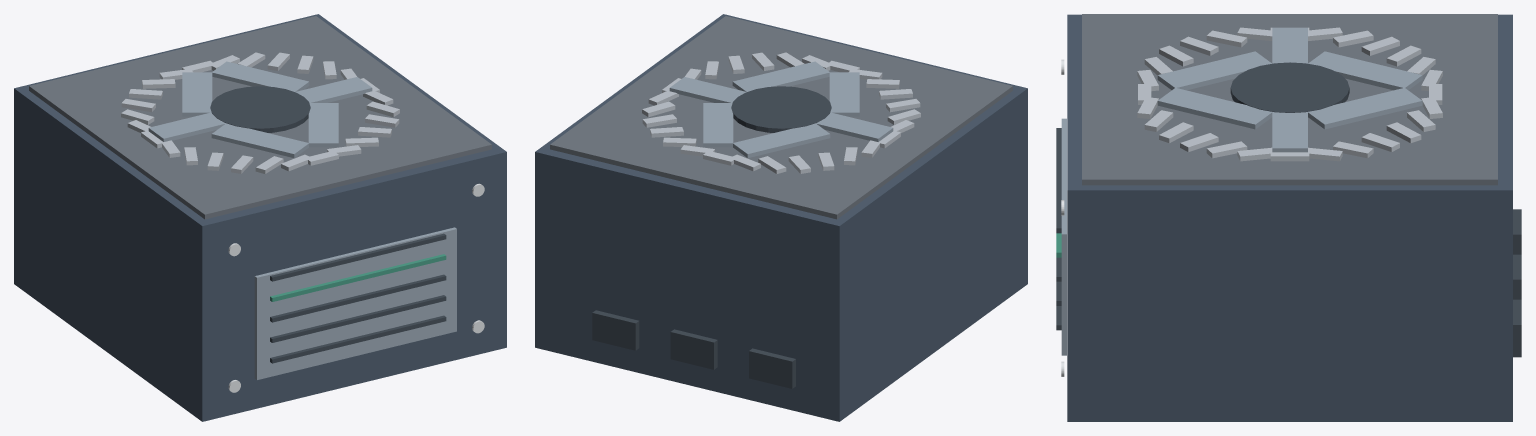
The model's file is psu.glb.
3 views of the same model, side by side, from view 1: azimuth 30°, elevation 25°; view 2: azimuth 150°, elevation 25°; view 3: azimuth 270°, elevation 25° (orthographic). The views are drawn at different scales.
Visible parts, largest first — view 1: steel_chassis_1, fan_grille_surface_2, psu_plate_38, fan_hub_31, vent_blade_34, vent_blade_37, vent_blade_33, vent_blade_36, vent_blade_35, psu_label_39, psu_label_41, psu_label_43 (+3 smaller); view 2: steel_chassis_1, fan_grille_surface_2, fan_hub_31, vent_blade_36, vent_blade_33, modular_port_46, modular_port_45, modular_port_44, vent_blade_37, vent_blade_34, vent_blade_35, vent_blade_32; view 3: steel_chassis_1, fan_grille_surface_2, fan_hub_31, vent_blade_33, vent_blade_37, vent_blade_34, vent_blade_36, vent_blade_32, psu_plate_38, vent_blade_35, psu_label_43, modular_port_46 (+7 smaller).
Part boxes in pixels (x1,y1,x2,y2): steel_chassis_1: [14, 14, 506, 421]; fan_grille_surface_2: [29, 16, 491, 219]; psu_plate_38: [254, 227, 456, 379]; fan_hub_31: [210, 86, 310, 132]; vent_blade_34: [211, 123, 308, 157]; vent_blade_37: [212, 61, 309, 91]; vent_blade_33: [308, 103, 338, 147]; vent_blade_36: [182, 72, 212, 116]; vent_blade_35: [148, 112, 225, 141]; psu_label_39: [270, 315, 446, 363]; psu_label_41: [270, 274, 446, 322]; psu_label_43: [270, 233, 446, 281]; steel_chassis_1: [535, 14, 1027, 421]; fan_grille_surface_2: [550, 16, 1012, 219]; fan_hub_31: [731, 86, 831, 132]; vent_blade_36: [733, 123, 830, 157]; vent_blade_33: [732, 61, 829, 91]; modular_port_46: [592, 310, 639, 350]; modular_port_45: [670, 329, 717, 369]; modular_port_44: [749, 348, 795, 388]; vent_blade_37: [703, 103, 733, 147]; vent_blade_34: [829, 72, 859, 116]; vent_blade_35: [816, 112, 893, 141]; vent_blade_32: [669, 77, 746, 102]; steel_chassis_1: [1067, 14, 1512, 421]; fan_grille_surface_2: [1082, 14, 1497, 185]; fan_hub_31: [1230, 62, 1349, 112]; vent_blade_33: [1157, 87, 1272, 129]; vent_blade_37: [1308, 87, 1422, 129]; vent_blade_34: [1157, 51, 1271, 90]; vent_blade_36: [1308, 51, 1422, 90]; vent_blade_32: [1272, 112, 1307, 152]; psu_plate_38: [1061, 118, 1066, 355]; vent_blade_35: [1272, 27, 1307, 63]; psu_label_43: [1056, 128, 1061, 233]; modular_port_46: [1513, 299, 1521, 357].
Size of the model in its own units: 1.4 by 0.9155 by 1.57.
